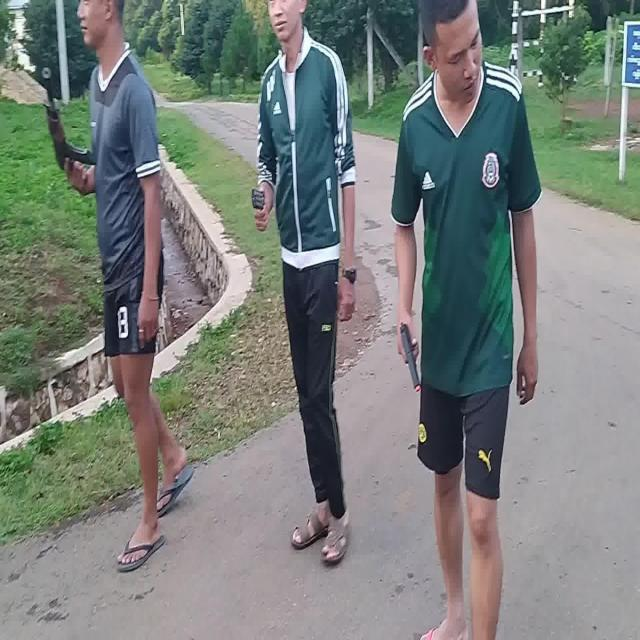gun: (41, 69, 96, 183), (401, 322, 420, 390)
